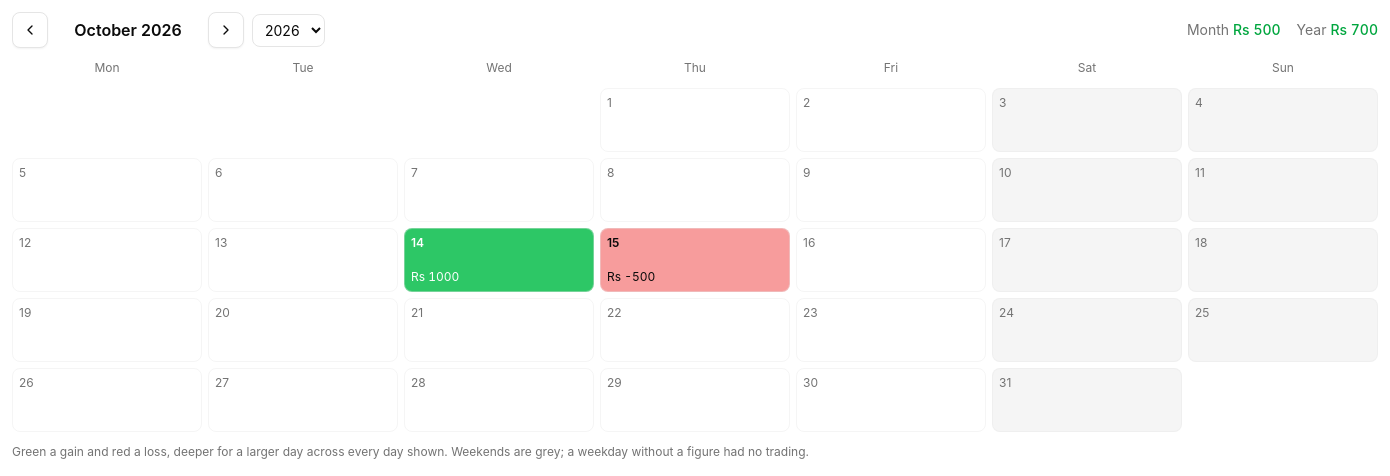
Scenario: DailyPnlCalendar › totals the month and the year beside the grid, and moves between months
Expected: the text "Rs 500" is shown, top-left (1233, 21), bottom-right (1281, 38)
Expected: the text "Rs 700" is shown, top-left (1330, 21), bottom-right (1378, 38)
Click the button named "Previous month": (30, 30) top-left (12, 12), bottom-right (48, 48)
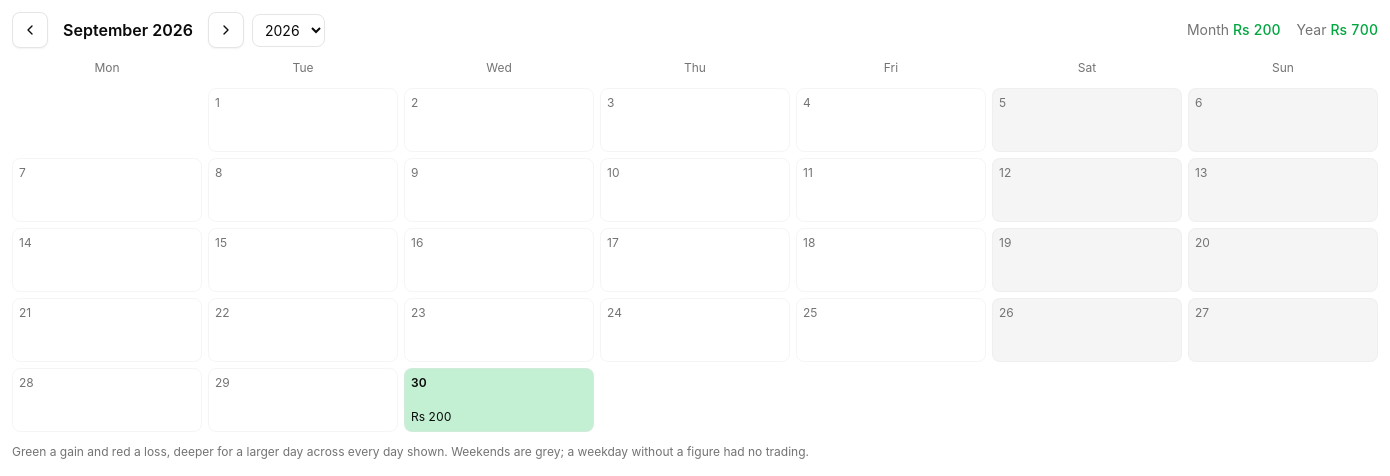
Expected: the heading "September 2026" is shown, top-left (56, 18), bottom-right (200, 42)
Expected: the text "Rs 200" next to "Month" is shown, top-left (1233, 21), bottom-right (1281, 38)
